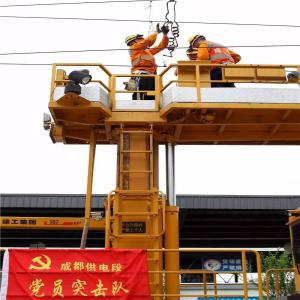yellow: (189, 35, 208, 49), (125, 35, 145, 48)
